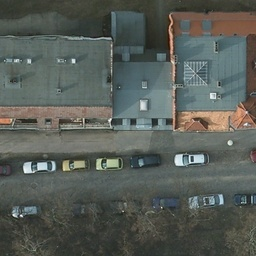car: (189, 193, 225, 211), (175, 151, 209, 169), (72, 198, 106, 216), (129, 152, 163, 169), (150, 196, 182, 213), (95, 154, 125, 172), (10, 204, 42, 220), (23, 160, 55, 175), (111, 200, 141, 215), (62, 157, 90, 173), (0, 162, 11, 179)
